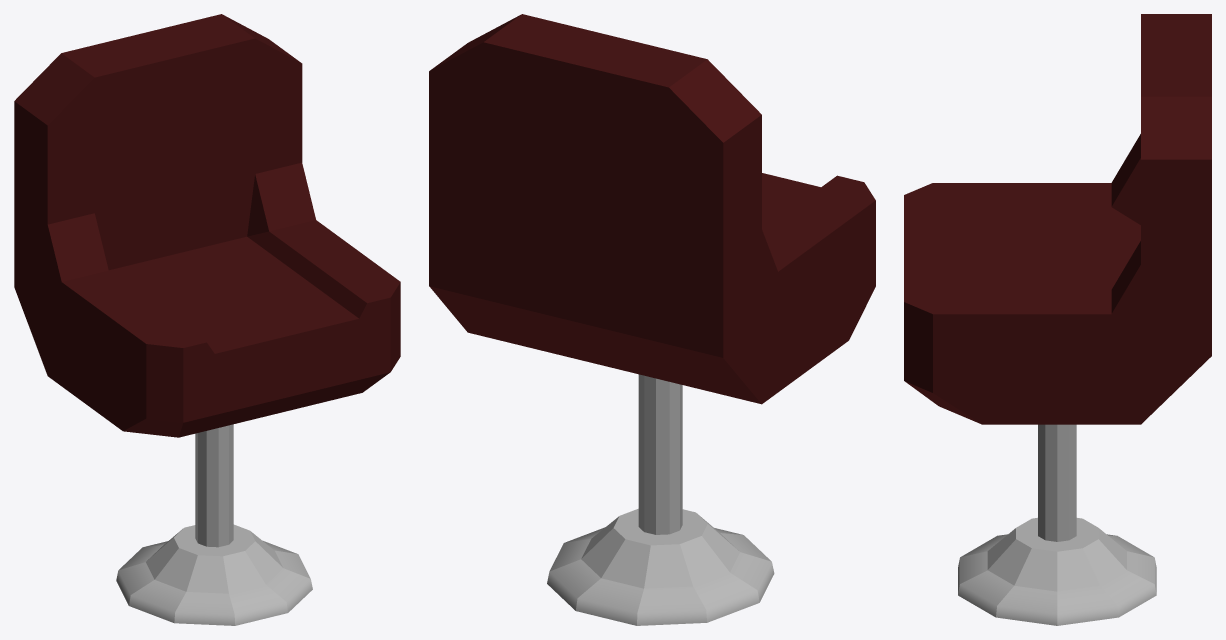
File: casino_chair.fbx
The picture shows the model from 3 angles, left to right: view 1: azimuth 30°, elevation 25°; view 2: azimuth 150°, elevation 25°; view 3: azimuth 270°, elevation 25°; orthographic projection. The views are drawn at different scales.
Visible parts, largest first — view 1: Slots_chair_base1; view 2: Slots_chair_base1; view 3: Slots_chair_base1.
Part boxes in pixels (bbox=[...]): Slots_chair_base1: bbox=[14, 14, 400, 625]; Slots_chair_base1: bbox=[429, 14, 875, 625]; Slots_chair_base1: bbox=[904, 14, 1211, 625].
Bounding box in the file's own units: 0.8787 × 1.64 × 0.8705.
